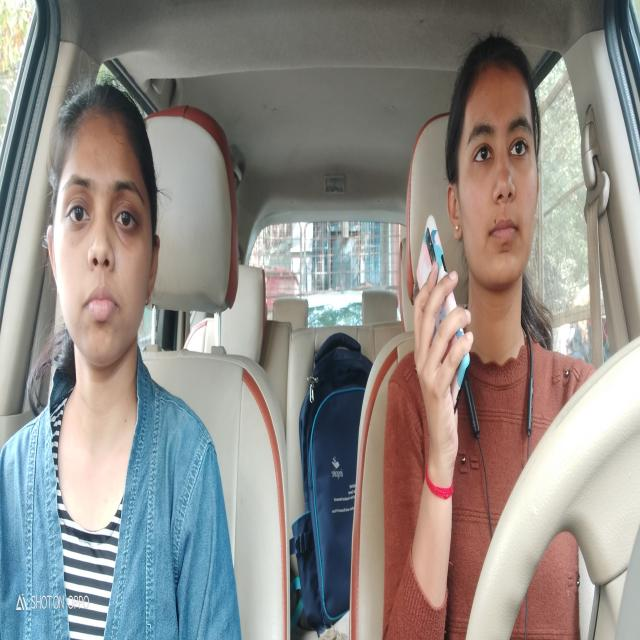mobile: (413, 215, 472, 418)
person: (46, 81, 161, 393), (444, 37, 542, 332)
